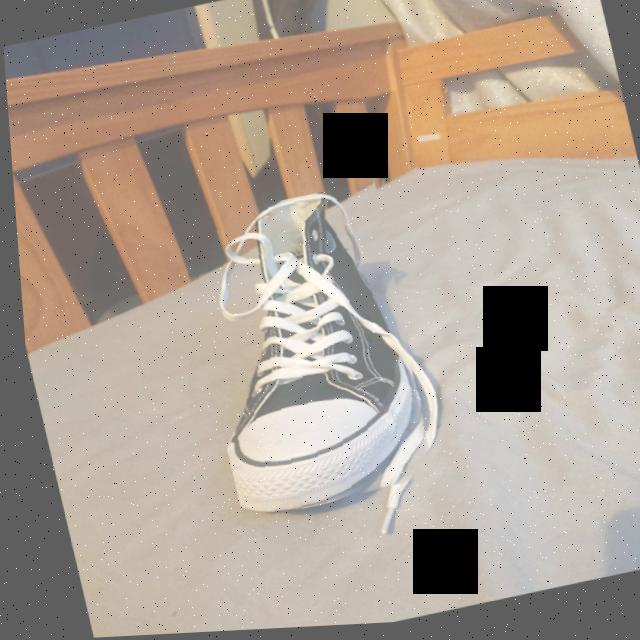shoe: (169, 183, 439, 527)
